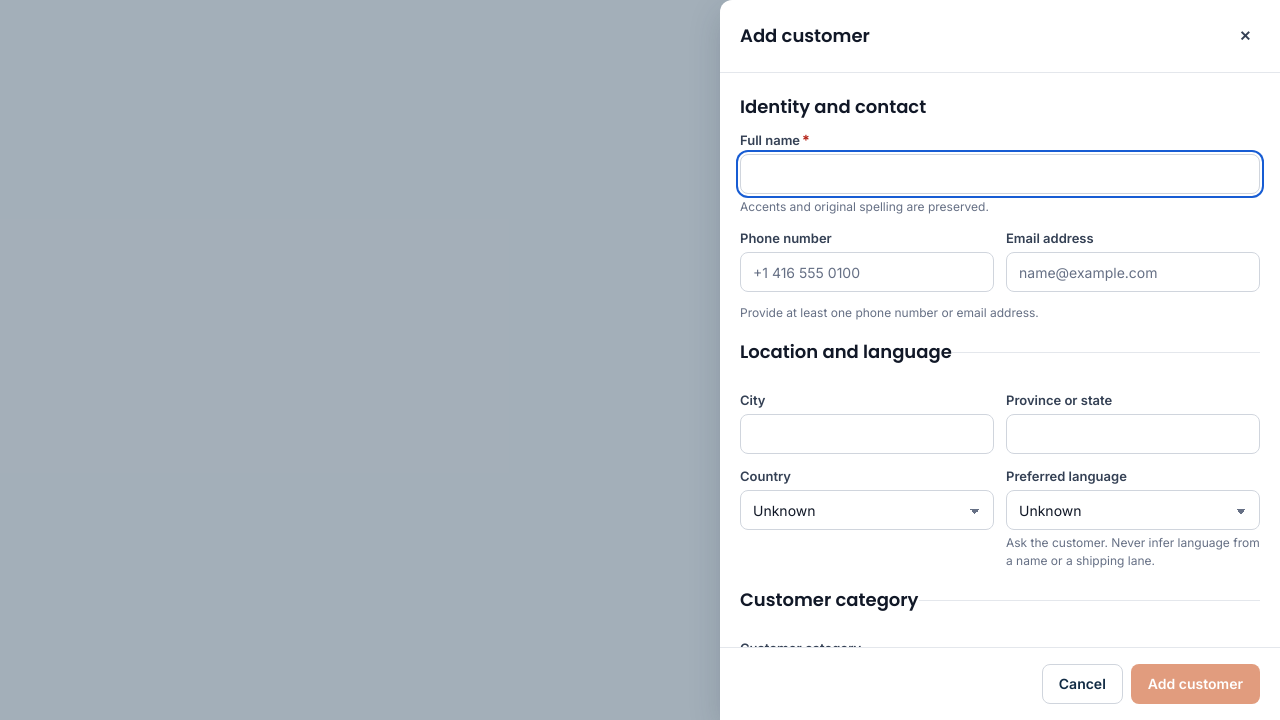
CustomerFormDrawer › shows a server validation message against the field it belongs to
Type "No Contact" into the field labelled "Full name" at (1000,174), box [740,154,1260,194]
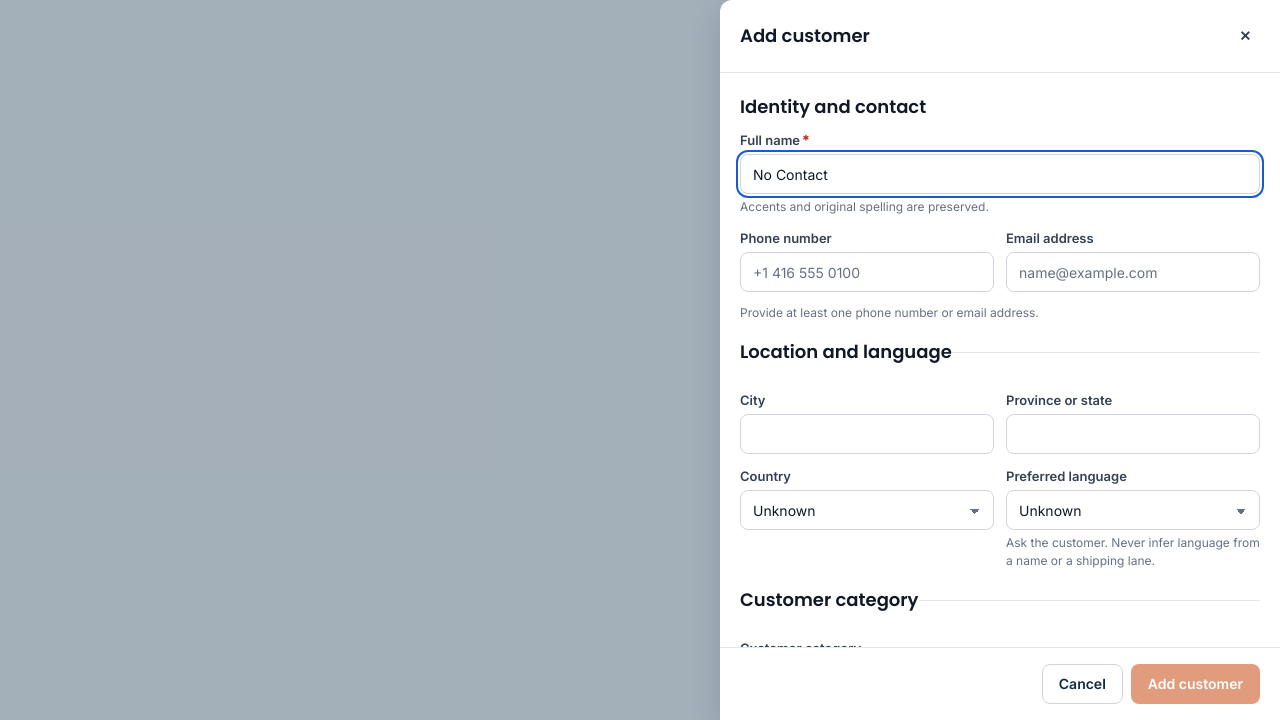
Type "5" into the field labelled "Phone number" at (867,272), box [740,252,994,292]
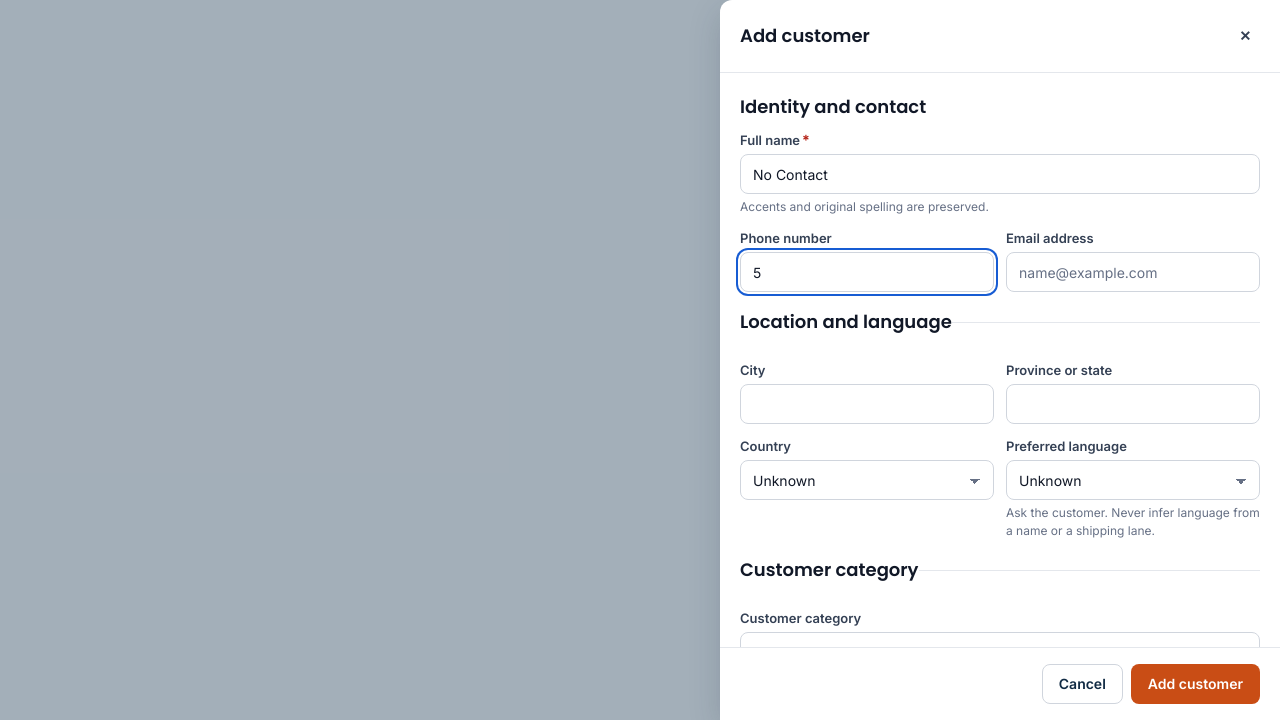
Now the button "Add customer" is enabled
Click the button "Add customer" at (1195,684), box [1131,664,1260,704]
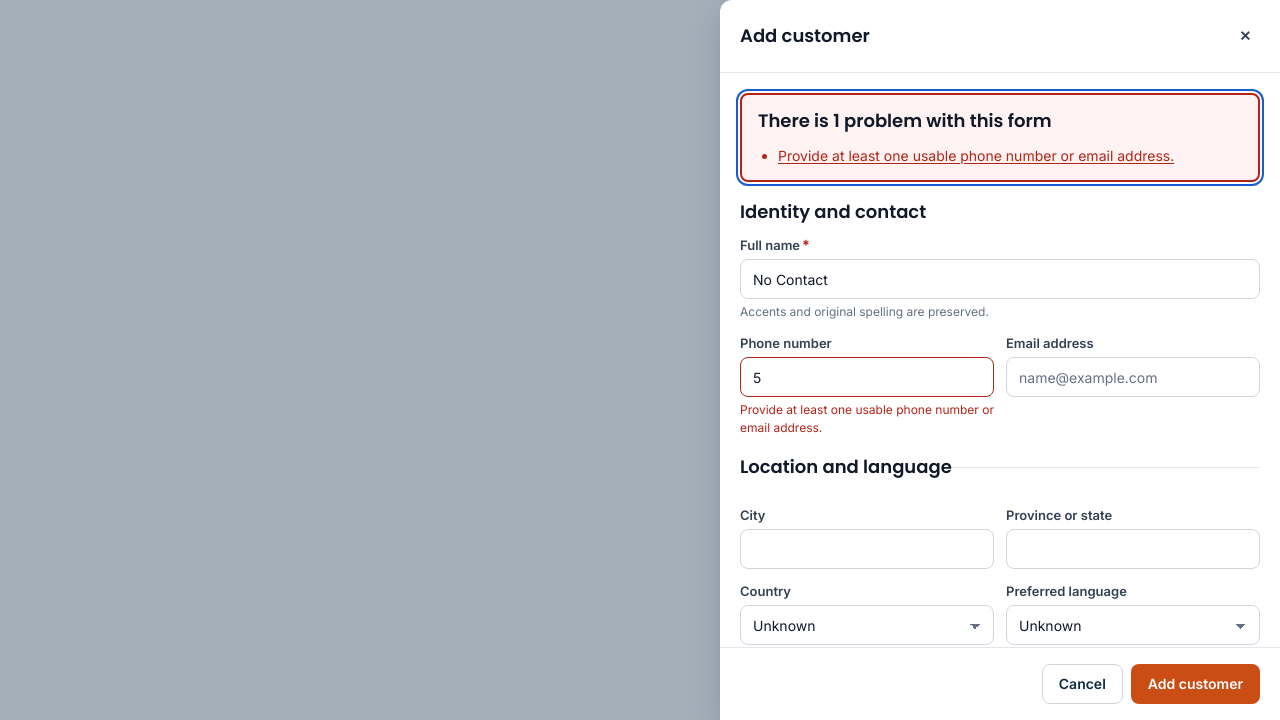
Now the number of links "Provide at least one usable phone number or email address." is 2, box [778,143,1174,168]; [740,401,994,437]
